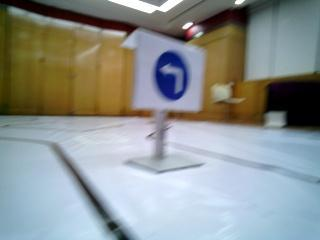left: (149, 41, 198, 106)
